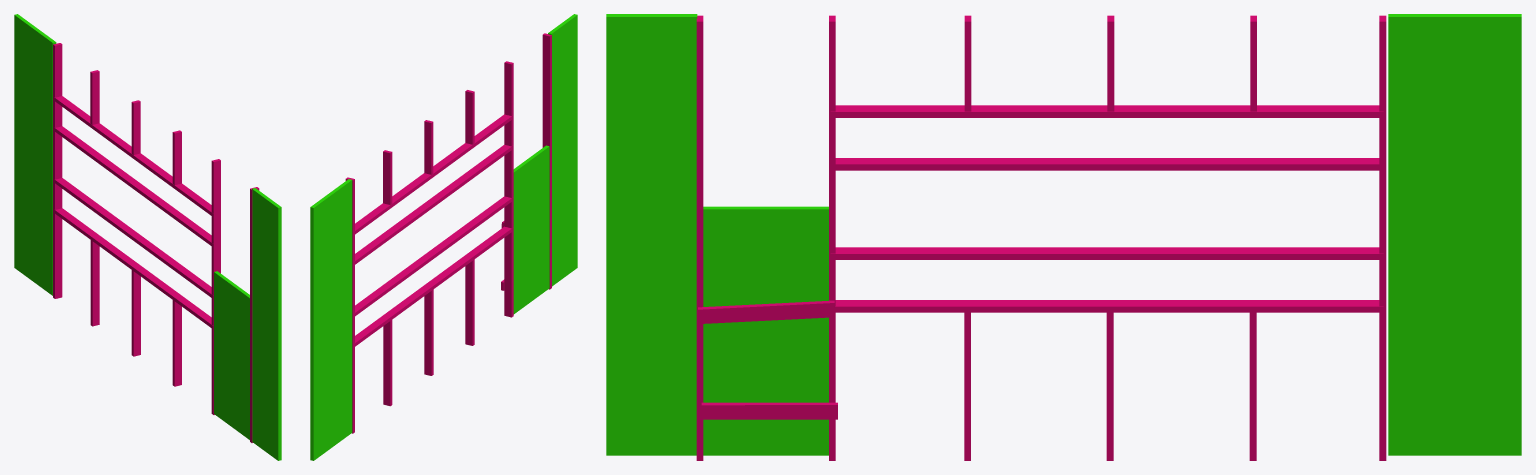
Rendered from BH04B_Wall_Int_01_Break_B.fbx.
3 renders of one model, left to right at view 1: azimuth 30°, elevation 25°; view 2: azimuth 150°, elevation 25°; view 3: azimuth 270°, elevation 25°, orthographic. The views are drawn at different scales.
Parts seen in each view (by area): view 1: BH04B_Wall_Int_01_Break_B; view 2: BH04B_Wall_Int_01_Break_B; view 3: BH04B_Wall_Int_01_Break_B.
Boxes of the visible parts, bbox=[...] form: BH04B_Wall_Int_01_Break_B: bbox=[14, 14, 281, 460]; BH04B_Wall_Int_01_Break_B: bbox=[310, 14, 577, 460]; BH04B_Wall_Int_01_Break_B: bbox=[606, 14, 1521, 460].
Size of the model in its own units: 12.91 by 301 by 567.
